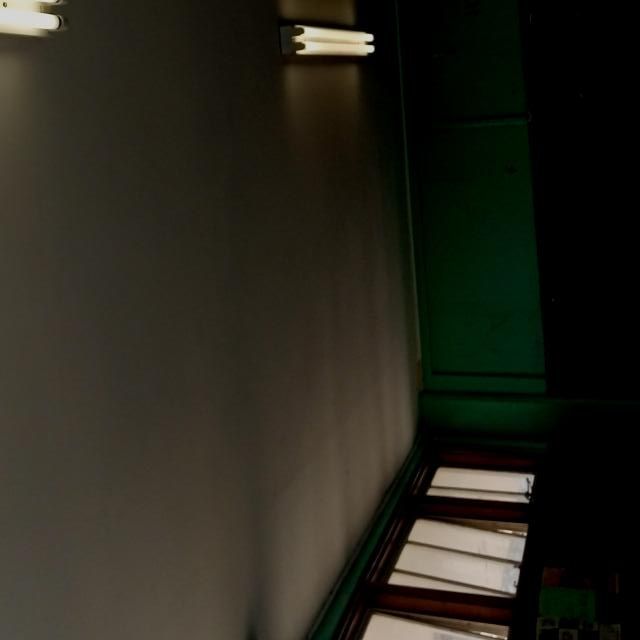fluorescent tube: (262, 8, 403, 74), (0, 0, 91, 56)
